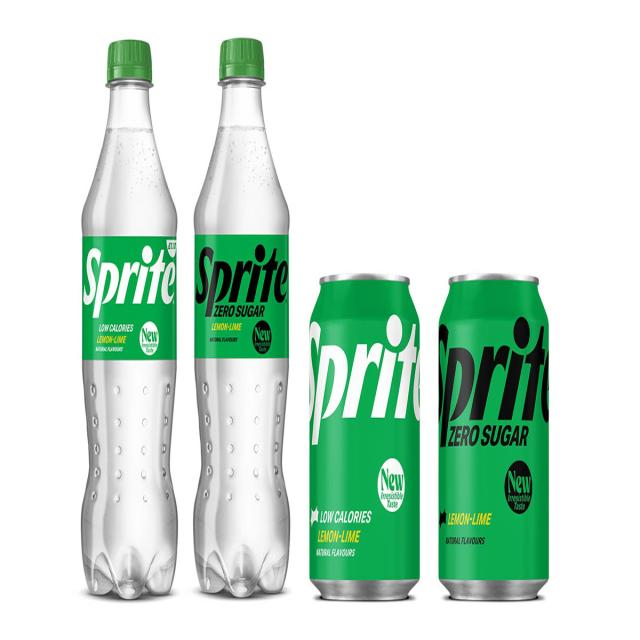sprite: (308, 271, 422, 601)
